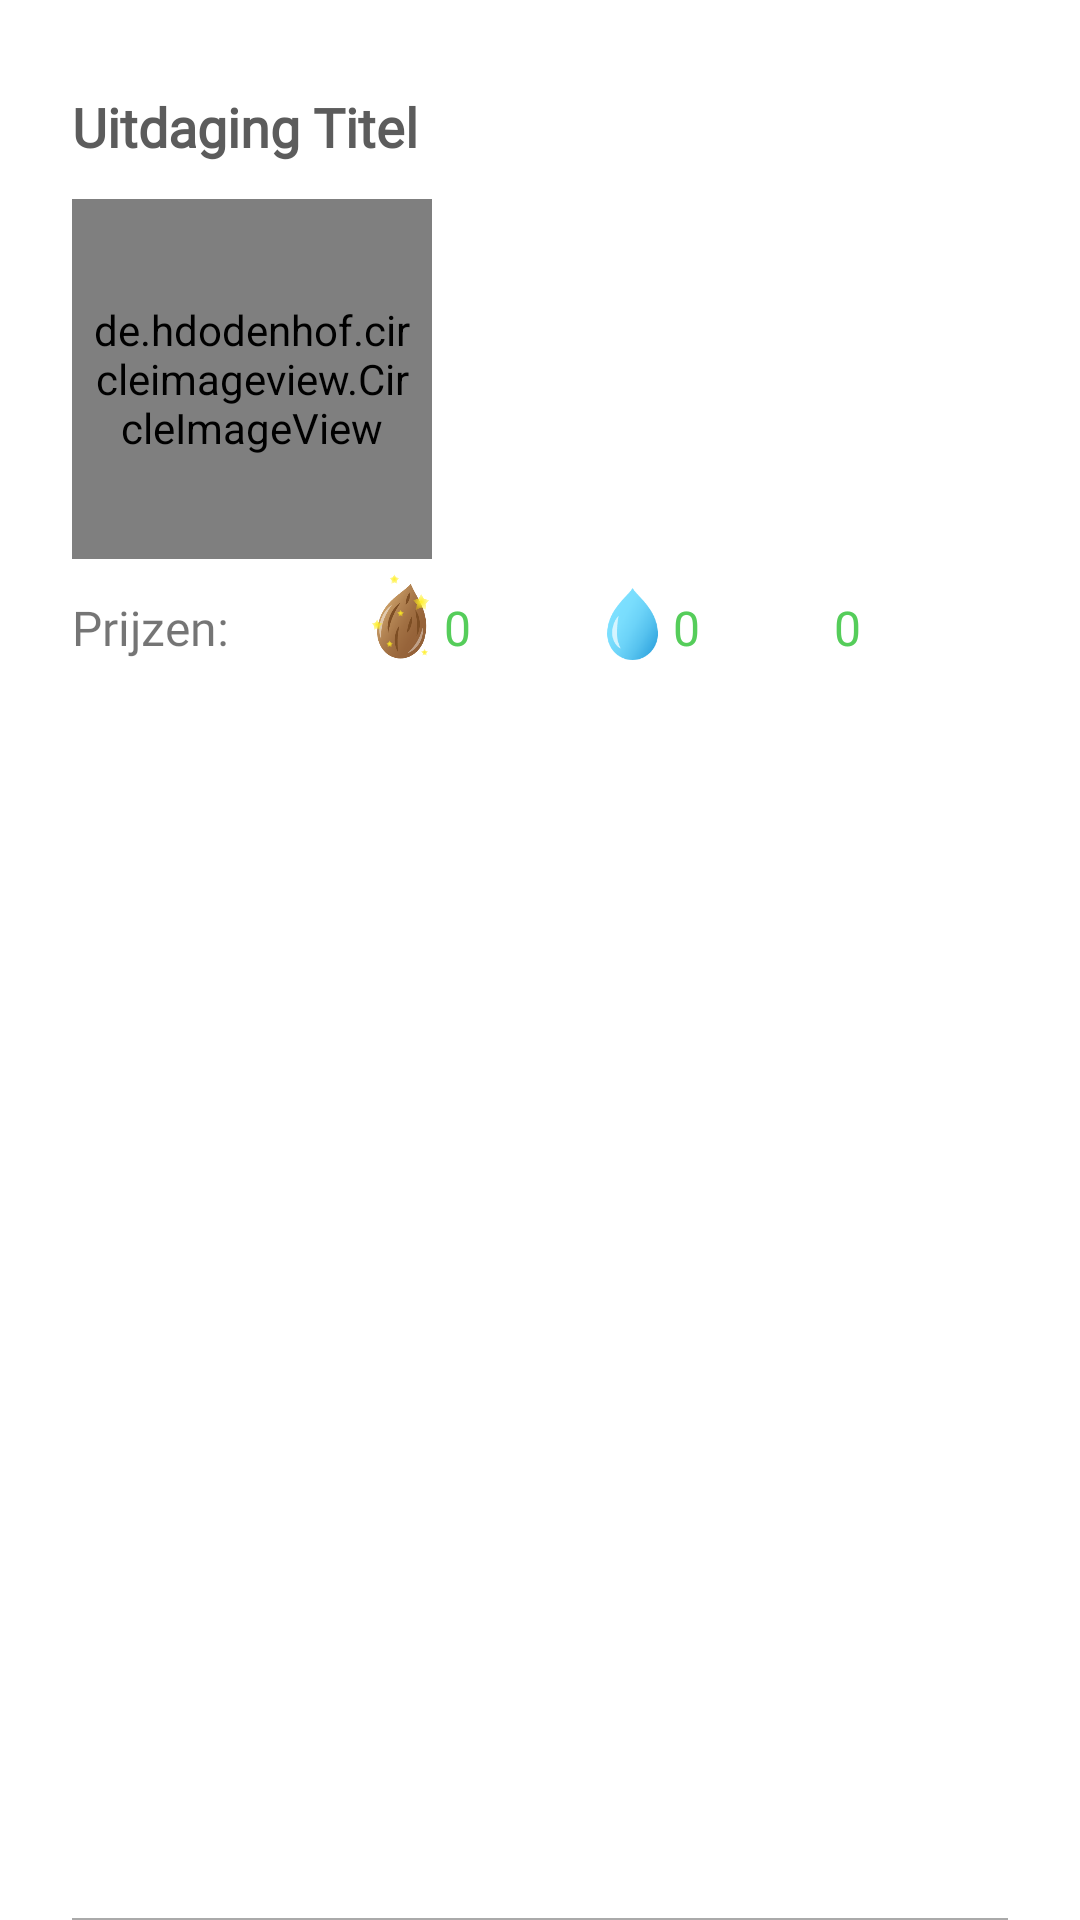

Locate icon controls on the screen. Image size 1080×1920, boxes as box=[x1, y1, x2, y2].
droplet: box=[607, 588, 658, 660]
seed: box=[372, 575, 429, 659]
